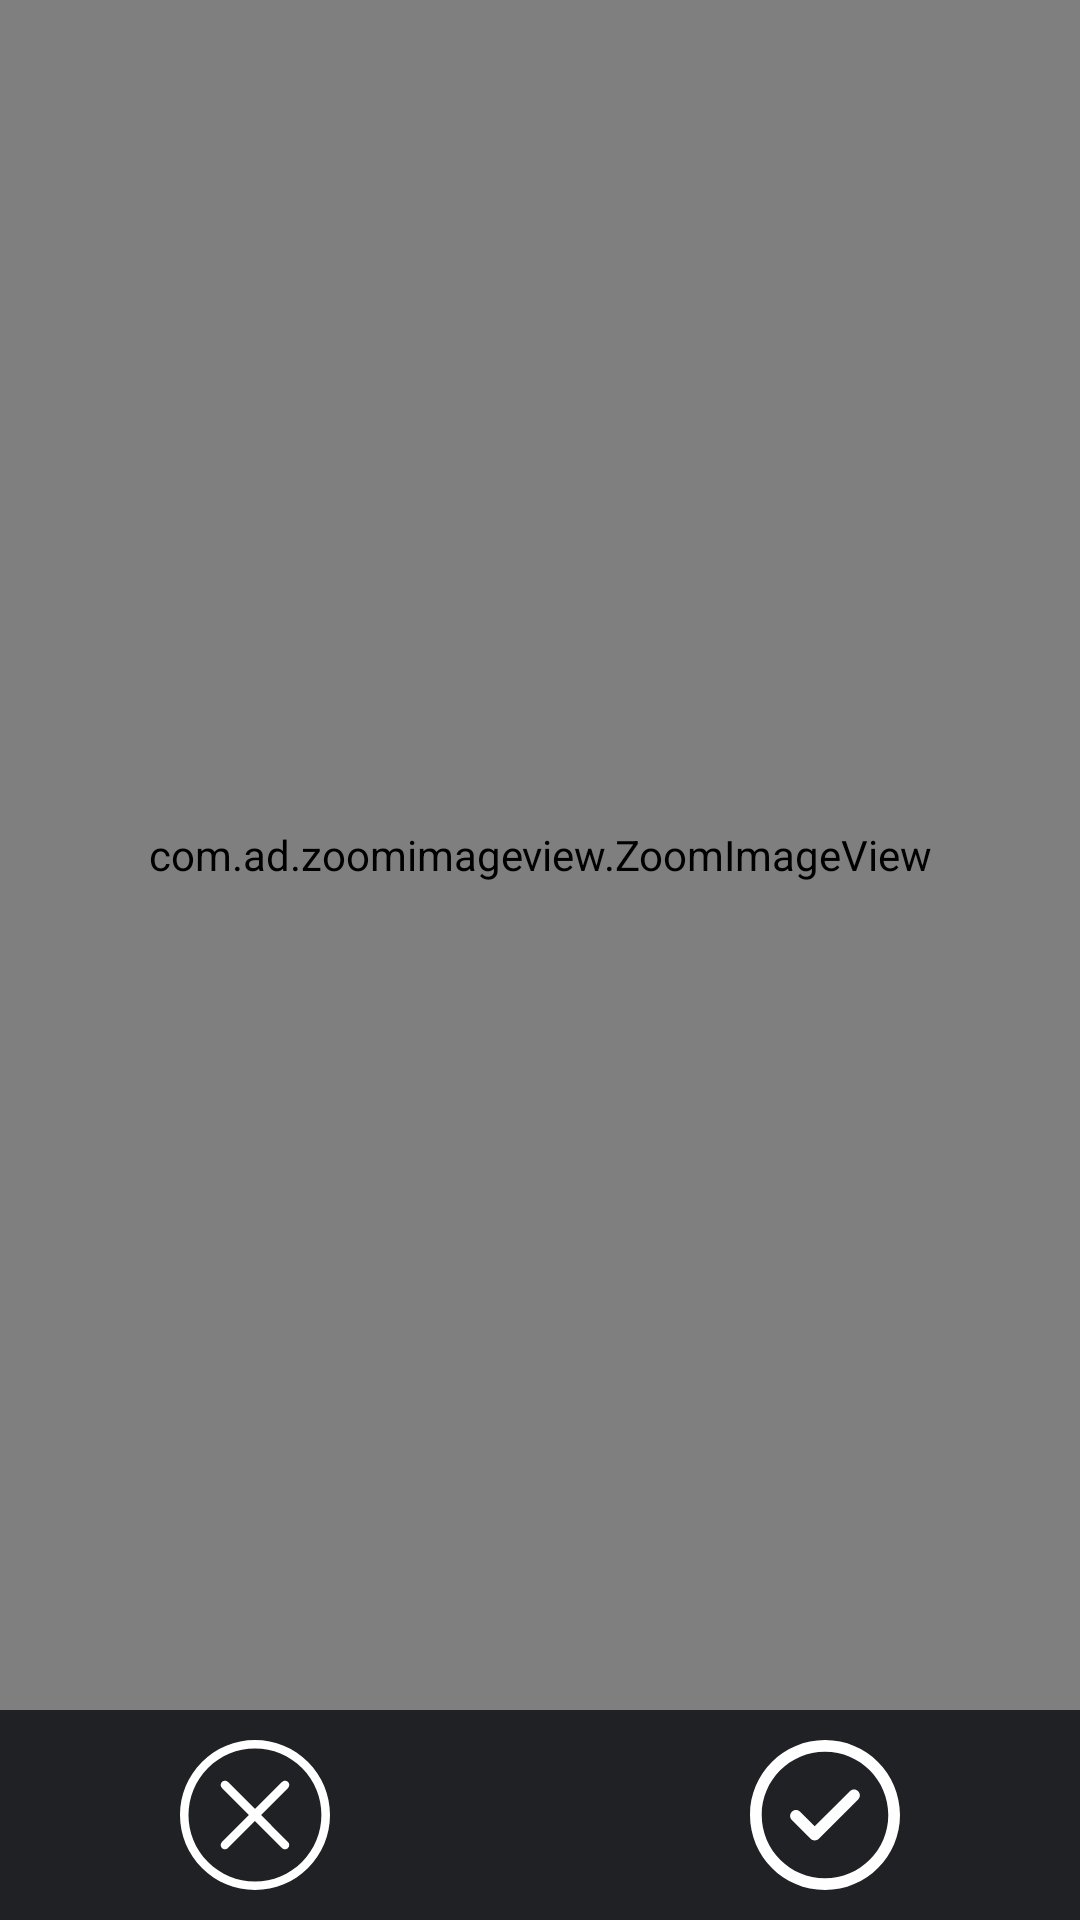

Where to tap for icons on this 1080px×1920px app screen, as (x=x, y=y):
correct: (x=825, y=1815)
incorrect: (x=255, y=1815)
